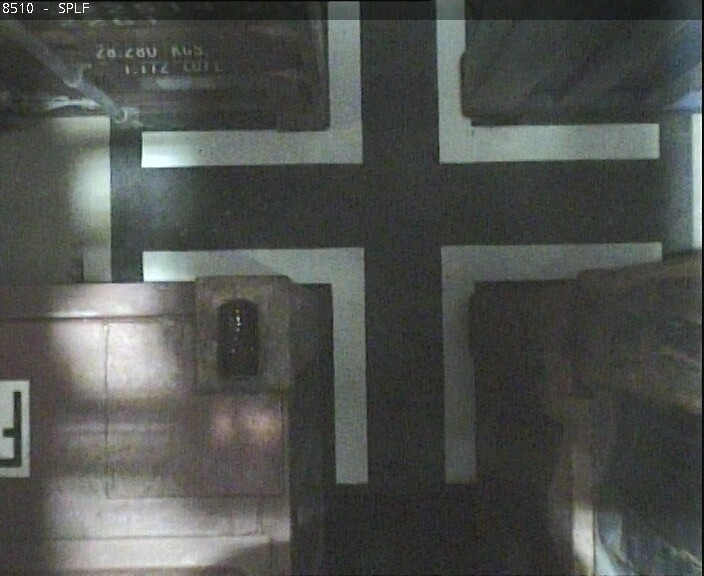groundmarker_1: (140, 236, 666, 486), (138, 2, 660, 169)
